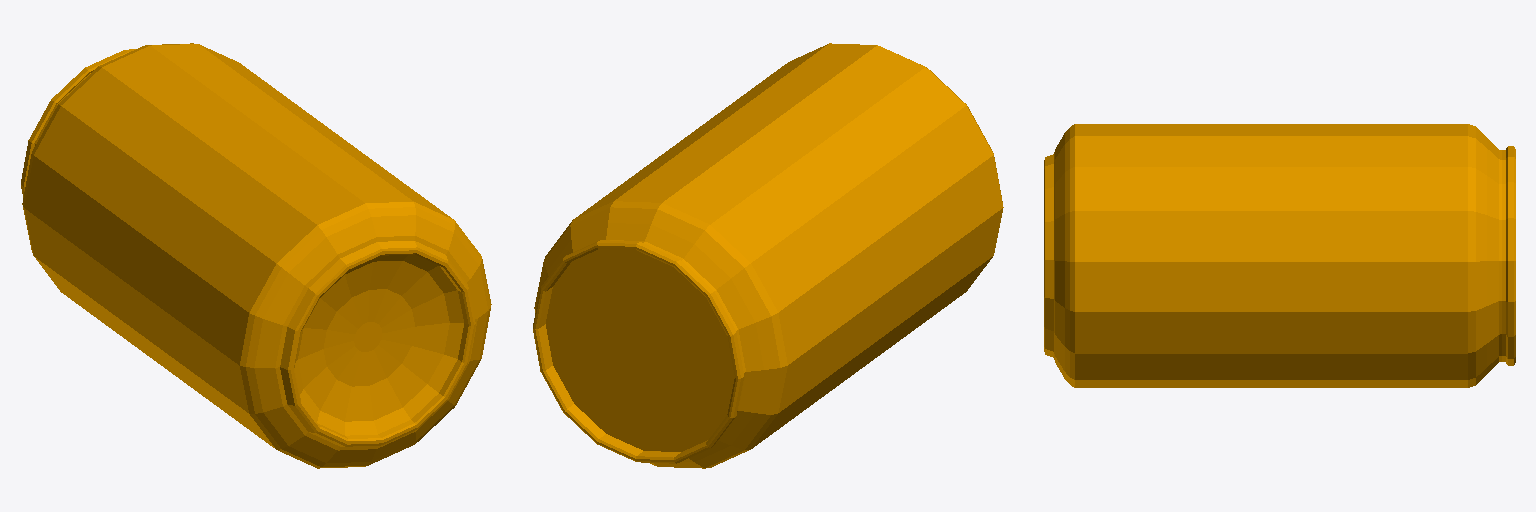
URDF robot description (coke):
<?xml version="1.0"?>
<robot name="coke">
  <link name="coke">
    <visual>
      <origin xyz="0.0 0.0 0.0"/>
      <geometry>
        <mesh filename="coke.obj" scale="0.015 0.015 0.015"/>
      </geometry>
    </visual>
    <collision>
      <origin xyz="0.0 0.0 0.0"/>
      <geometry>
        <mesh filename="coke.obj" scale="0.015 0.015 0.015"/>
      </geometry>
    </collision>
    <inertial>
      <mass value="0.3"/>
      <inertia ixx="0.0001" ixy="0.0" ixz="0.0" iyy="0.0001" iyz="0.0" izz="0.0001"/>
    </inertial>
  </link>
</robot>

--- Render facts (derived) ---
Views: 3 orthographic renders of the robot side by side, from view 1: azimuth 30°, elevation 25°; view 2: azimuth 150°, elevation 25°; view 3: azimuth 270°, elevation 25°.
Model coke with 1 links and 0 joints (none), rooted at coke, posed every joint at zero.
Links seen in each view (by area): view 1: coke; view 2: coke; view 3: coke.
Boxes of the visible links, x1=… form: coke: x1=21, y1=43, x2=491, y2=468; coke: x1=533, y1=43, x2=1003, y2=468; coke: x1=1044, y1=124, x2=1515, y2=387.
Size in the robot's own frame: 0.077 by 0.1371 by 0.077 metres.
Meshes: 1 distinct files referenced, 1 mesh visuals loaded (1 OBJ).